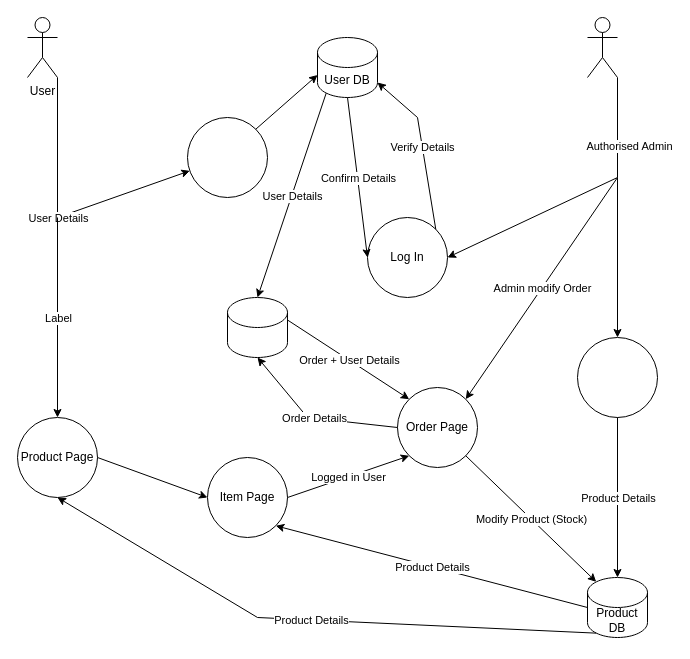
This 690x659 diagram has some shape labels left out. The centre of each missing label's shape, as x and y in pixels:
"Admin" belongs at pixel 602 47.
"Create Product" belongs at pixel 617 377.
"Order DB" belongs at pixel 257 327.
"Sign Up" belongs at pixel 227 157.
